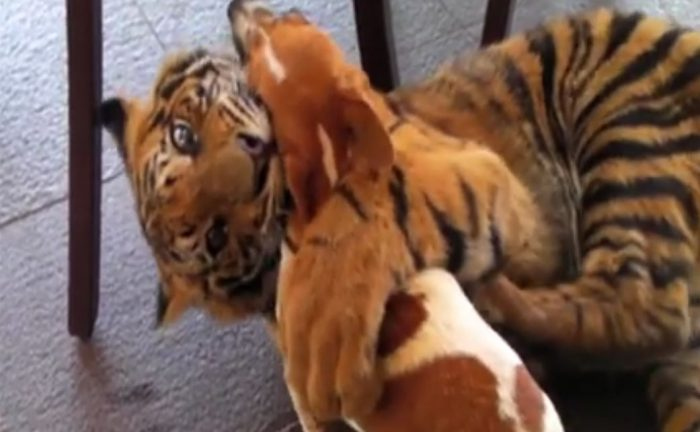dog: (227, 3, 574, 432)
tiger: (105, 10, 700, 345)
